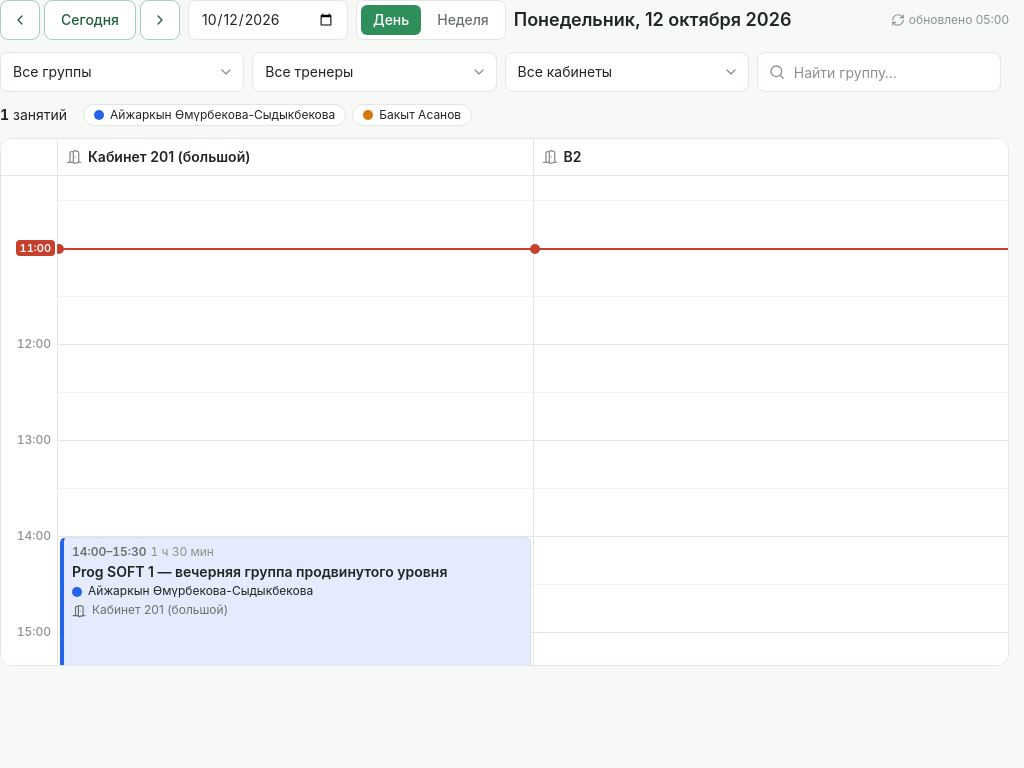
Scenario: Public schedule site (no login) › shows lesson details with public fields only, no editing
The width and height of the screenshot is (1024, 768).
(page scrolled)
Click the button "Prog SOFT 1 — вечерняя группа продвинутого уровня": (89, 552) [60,537,530,679]
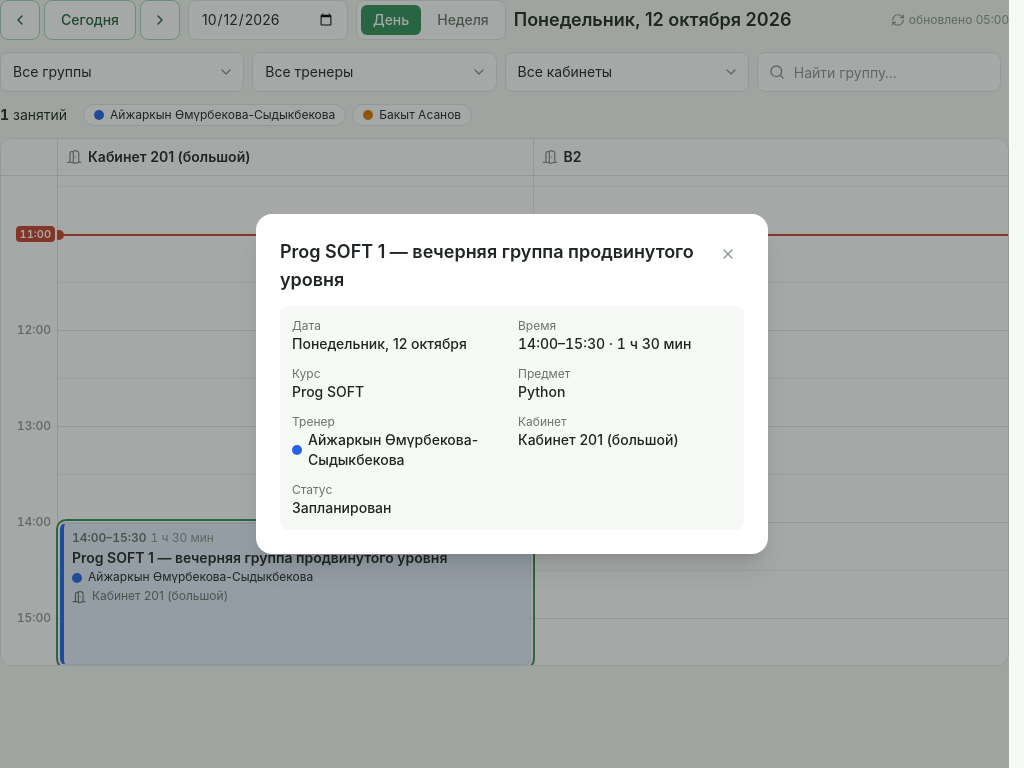
Result: the text "Prog SOFT" is shown at [292,383,364,400]
Result: the text "Айжаркын Өмүрбекова-Сыдыкбекова" is shown at [292,430,506,470]
